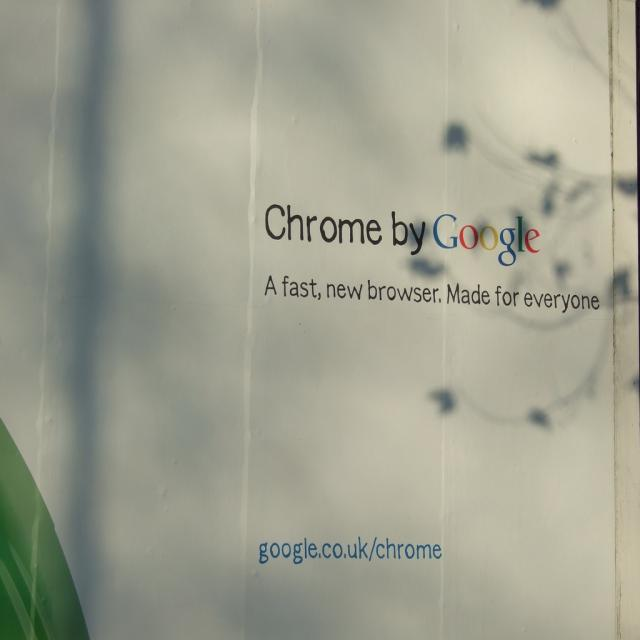google: (433, 210, 544, 271)
